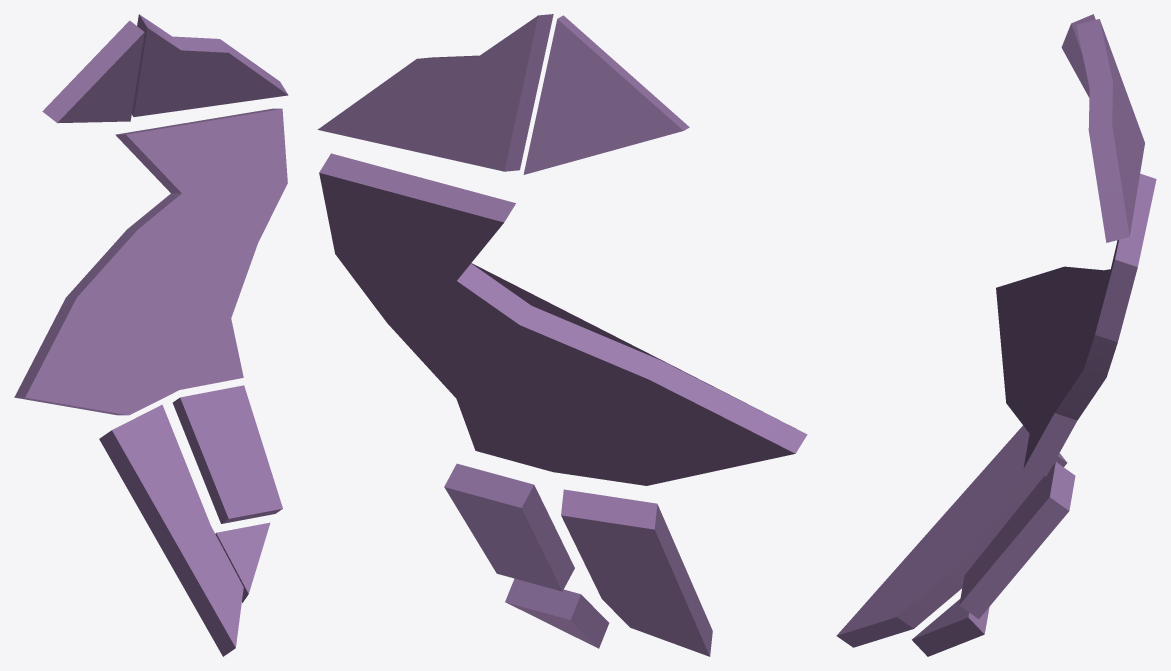
Rendered from cont4.fbx.
The picture shows the model from 3 angles, left to right: view 1: azimuth 30°, elevation 25°; view 2: azimuth 150°, elevation 25°; view 3: azimuth 270°, elevation 25°; orthographic projection. The views are drawn at different scales.
Parts seen in each view (by area): view 1: C4_Country3_GEO, C4_Country5_GEO, C4_Country4_GEO, C4_Country1_GEO, C4_Country2_GEO, C4_Country6_GEO; view 2: C4_Country3_GEO, C4_Country1_GEO, C4_Country5_GEO, C4_Country2_GEO, C4_Country4_GEO, C4_Country6_GEO; view 3: C4_Country3_GEO, C4_Country5_GEO, C4_Country1_GEO, C4_Country4_GEO, C4_Country6_GEO, C4_Country2_GEO.
Boxes of the visible parts, x1,y1,x2,y2 form: C4_Country3_GEO: [14, 108, 287, 415]; C4_Country5_GEO: [99, 404, 243, 656]; C4_Country4_GEO: [172, 385, 282, 523]; C4_Country1_GEO: [132, 14, 288, 116]; C4_Country2_GEO: [42, 20, 144, 123]; C4_Country6_GEO: [215, 522, 270, 602]; C4_Country3_GEO: [319, 153, 807, 485]; C4_Country1_GEO: [317, 14, 553, 171]; C4_Country5_GEO: [561, 489, 712, 656]; C4_Country2_GEO: [523, 15, 689, 174]; C4_Country4_GEO: [444, 463, 574, 591]; C4_Country6_GEO: [505, 578, 609, 648]; C4_Country3_GEO: [996, 173, 1156, 476]; C4_Country5_GEO: [836, 425, 1067, 647]; C4_Country1_GEO: [1076, 19, 1144, 242]; C4_Country4_GEO: [959, 462, 1075, 618]; C4_Country6_GEO: [912, 599, 989, 656]; C4_Country2_GEO: [1061, 14, 1095, 97].
Bounding box in the file's own units: 398 × 676 × 306.
